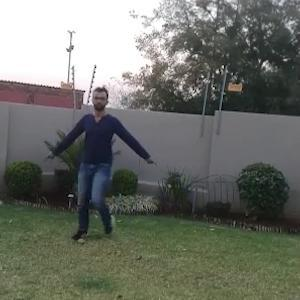land: (56, 95, 153, 223)
